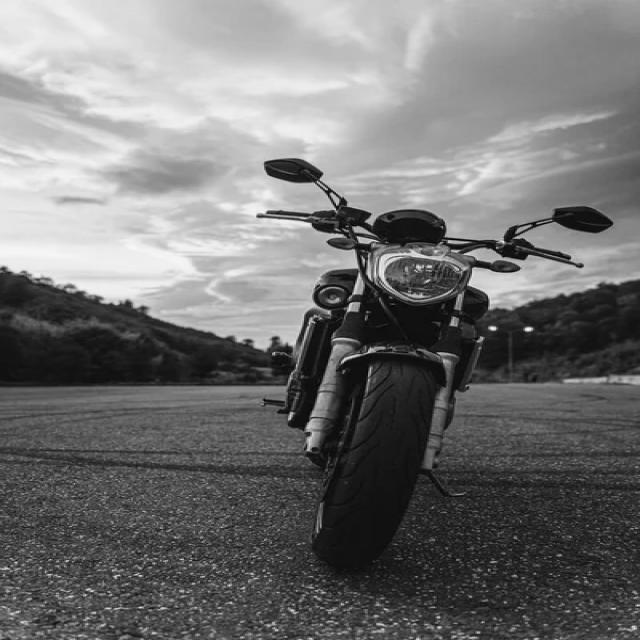Motorcycle: (259, 157, 613, 567)
